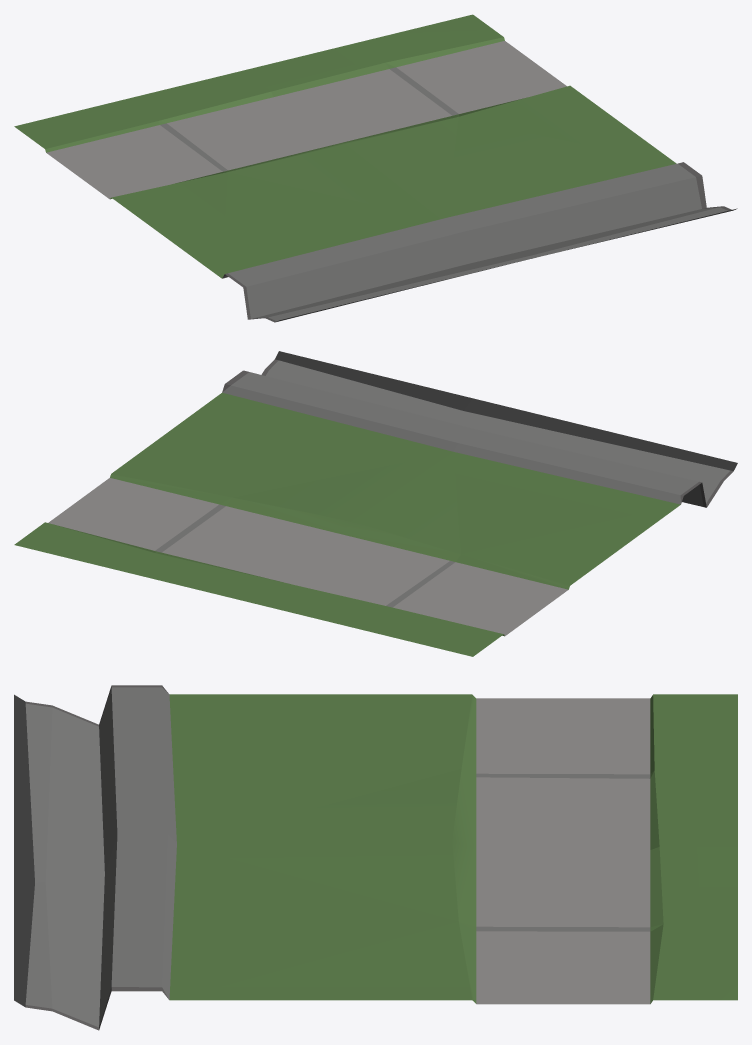
The model's file is SM_Env_Sidewalk_Straight_01.fbx.
3 renders of one model, top to bottom at view 1: azimuth 30°, elevation 25°; view 2: azimuth 150°, elevation 25°; view 3: azimuth 270°, elevation 25°, orthographic. The views are drawn at different scales.
Visible parts, largest first — view 1: SM_Env_Sidewalk_Straight_01; view 2: SM_Env_Sidewalk_Straight_01; view 3: SM_Env_Sidewalk_Straight_01.
Part boxes in pixels (box(x1,y1,x2,y2)): SM_Env_Sidewalk_Straight_01: box(14, 14, 737, 322); SM_Env_Sidewalk_Straight_01: box(14, 351, 737, 656); SM_Env_Sidewalk_Straight_01: box(14, 685, 737, 1030).
Bounding box in the file's own units: 500 × 30 × 500.
